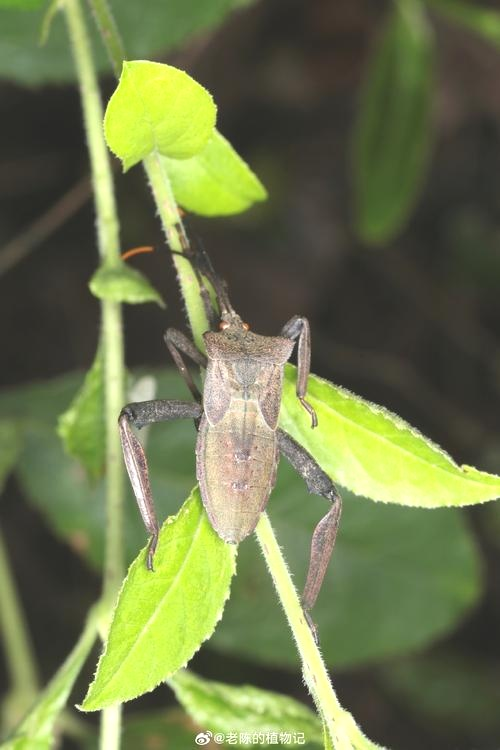Stink_Bug: (159, 237, 295, 524)
